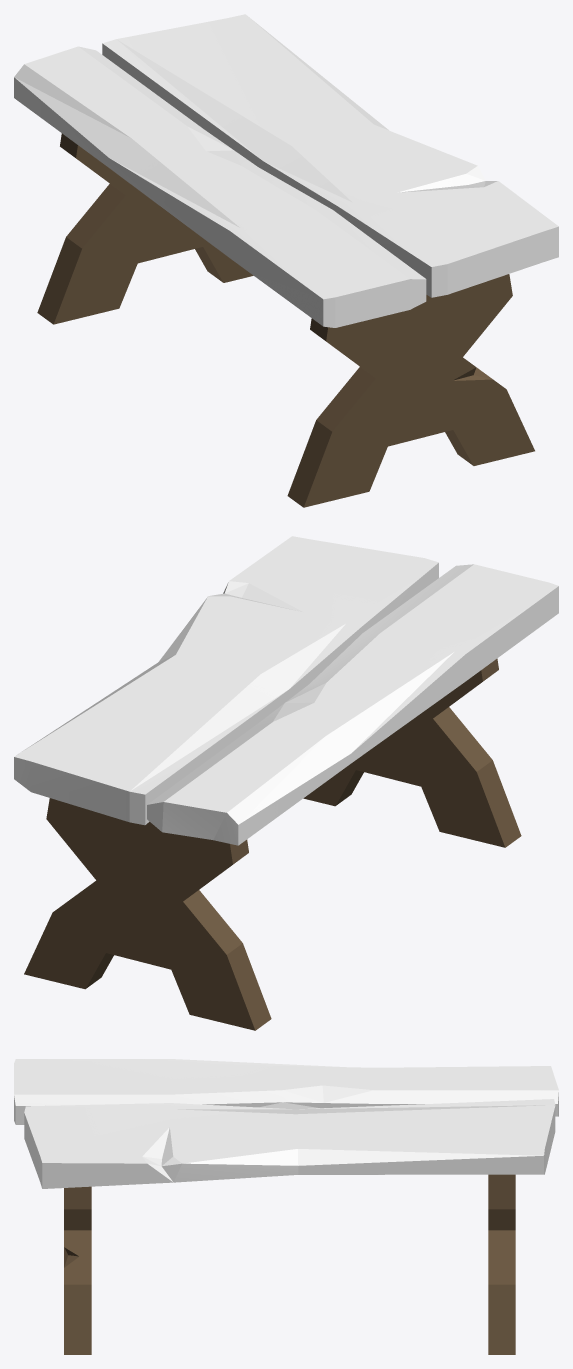
The model's file is Banca.glb.
3 views of the same model, one above another, from view 1: azimuth 30°, elevation 25°; view 2: azimuth 150°, elevation 25°; view 3: azimuth 270°, elevation 25° (orthographic). The views are drawn at different scales.
Visible parts, largest first — view 1: SM_Prop_Seat_01; view 2: SM_Prop_Seat_01; view 3: SM_Prop_Seat_01.
Boxes of the visible parts, box(x1,y1,x2,y2) form: SM_Prop_Seat_01: box(14, 14, 558, 507); SM_Prop_Seat_01: box(14, 536, 558, 1030); SM_Prop_Seat_01: box(14, 1059, 558, 1354).
Bounding box in the file's own units: 0.6484 × 0.5603 × 1.41.
1 material, 1 textured.
